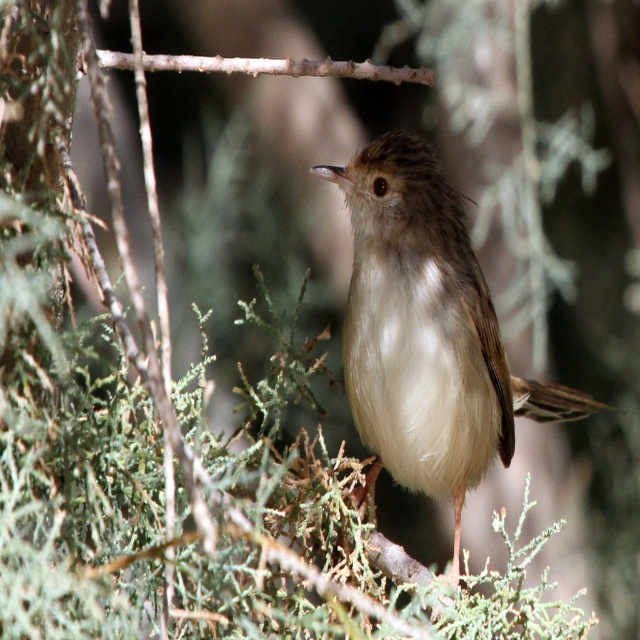Sparrow: (308, 131, 625, 625)
